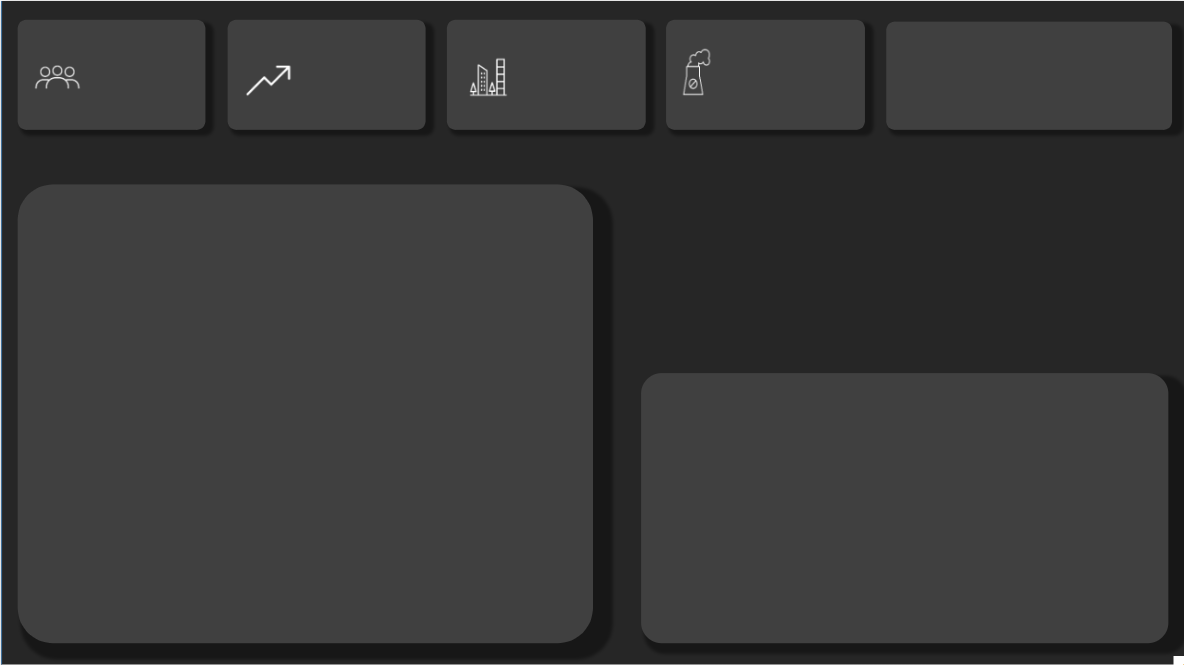

The page's visual inventory and layout, read from the dashboard file:
{"tool":"powerbi","page":{"name":"Page 1","canvas":[1280,720],"ordinal":2},"visuals":[{"type":"card","fields":{"Values":["Sum(country2.Population)"]},"box":[71.1,34.2,146.1,105.3],"z":0},{"type":"card","fields":{"Values":["Sum(country2.Population Growth)"]},"box":[302.6,34.2,167.1,105.3],"z":1000},{"type":"card","fields":{"Values":["Sum(country2.Urban Population)"]},"box":[528.8,33.8,195,102.5],"z":2000},{"type":"card","title":"Kilotons of CO2","fields":{"Values":["Sum(country2.CO2 Emission (kt))"]},"box":[763.2,36.8,163.2,102.6],"z":3000},{"type":"lineStackedColumnComboChart","title":"Population Trend","fields":{"Category":["country2.Year"],"Y":["Sum(country2.Population Growth)","Sum(country2.Urban Population)"]},"box":[31.4,220.7,594.6,459.5],"z":4000},{"type":"lineChart","title":"Forest Land Area","fields":{"Category":["country2.Year"],"Y":["Sum(country2.Forest Area)"]},"box":[704.4,417.5,549.6,262.7],"z":5000},{"type":"lineChart","fields":{"Y":["Sum(country2.Gas Electricity)","Sum(country2.Coal Electricity)","Sum(country2.Oil Electricity)"],"Category":["country2.Year"]},"box":[694.7,176.1,559.6,197.8],"z":6000},{"type":"slicer","title":"Year","fields":{"Values":["country2.Year"]},"box":[964.8,19.3,314.8,156.8],"z":7000}]}

Visuals, with their boxes in screenshot pixels (x1, y1, x2, y2), scaled from the page's 1280x720 canvas onto the 1184x665 screenshot:
card - Sum(country2.Population): <bbox>66, 32, 201, 129</bbox>
card - Sum(country2.Population Growth): <bbox>280, 32, 434, 129</bbox>
card - Sum(country2.Urban Population): <bbox>489, 31, 670, 126</bbox>
"Kilotons of CO2" card: <bbox>706, 34, 857, 129</bbox>
"Population Trend" lineStackedColumnComboChart: <bbox>29, 204, 579, 628</bbox>
"Forest Land Area" lineChart: <bbox>652, 386, 1160, 628</bbox>
lineChart - Sum(country2.Gas Electricity) x Sum(country2.Coal Electricity): <bbox>643, 163, 1160, 345</bbox>
"Year" slicer: <bbox>892, 18, 1183, 163</bbox>
